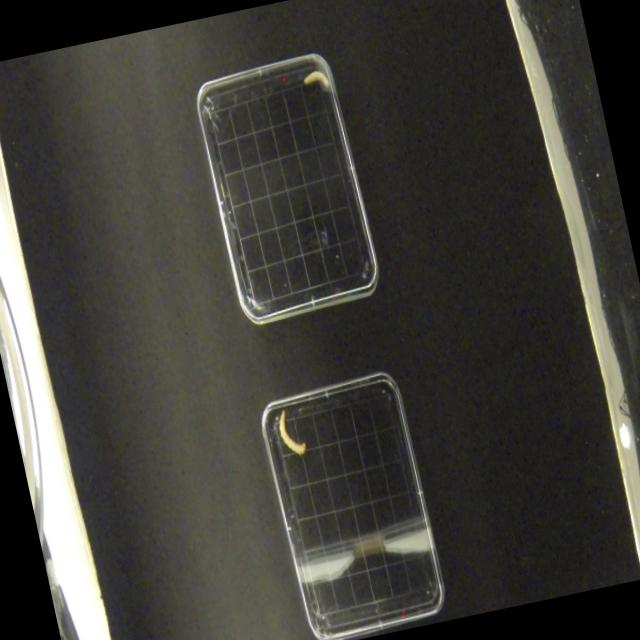larva: (275, 408, 309, 460), (302, 64, 334, 100)
